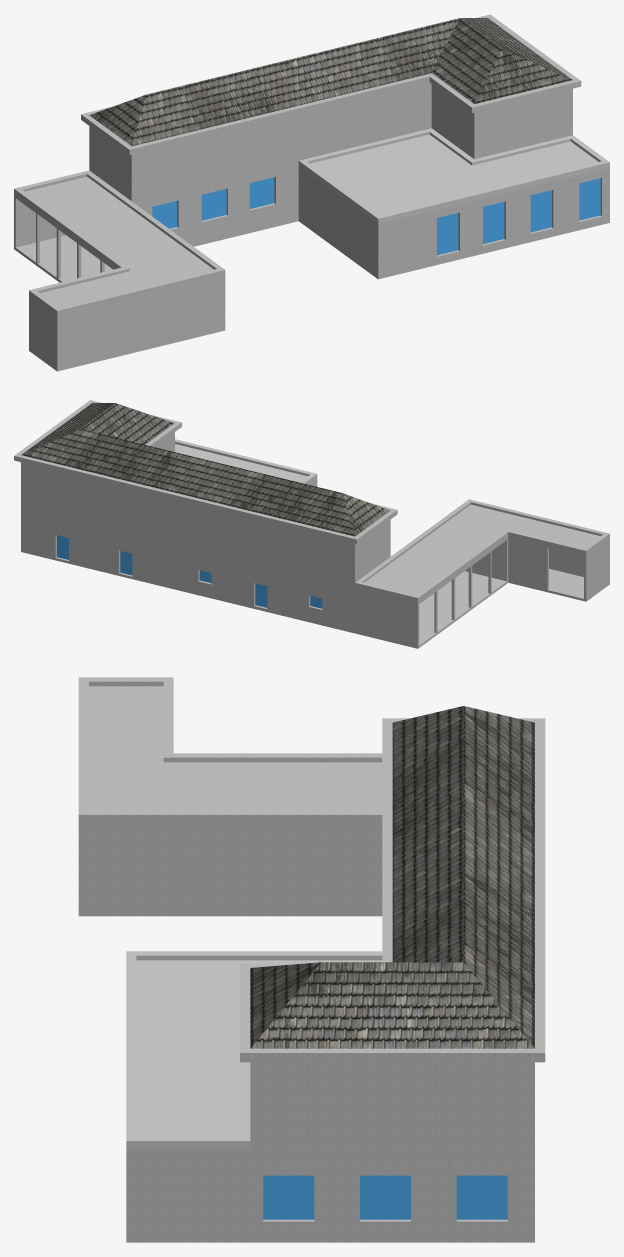
Rendered from Assembly_Point.glb.
3 renders of one model, top to bottom at view 1: azimuth 30°, elevation 25°; view 2: azimuth 150°, elevation 25°; view 3: azimuth 270°, elevation 25°, orthographic. The views are drawn at different scales.
Parts seen in each view (by area): view 1: Floor1; view 2: Floor1; view 3: Floor1.
Part boxes in pixels (x1,y1,x2,y2): Floor1: [14, 14, 609, 371]; Floor1: [14, 400, 609, 648]; Floor1: [78, 677, 545, 1242].
Size of the model in its own units: 43.49 by 10.4 by 18.32.
Materials: 3 (3 with a texture image).
